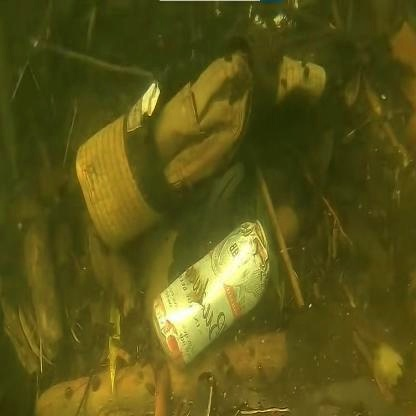can: (154, 245, 282, 364)
misc: (32, 66, 260, 223)
